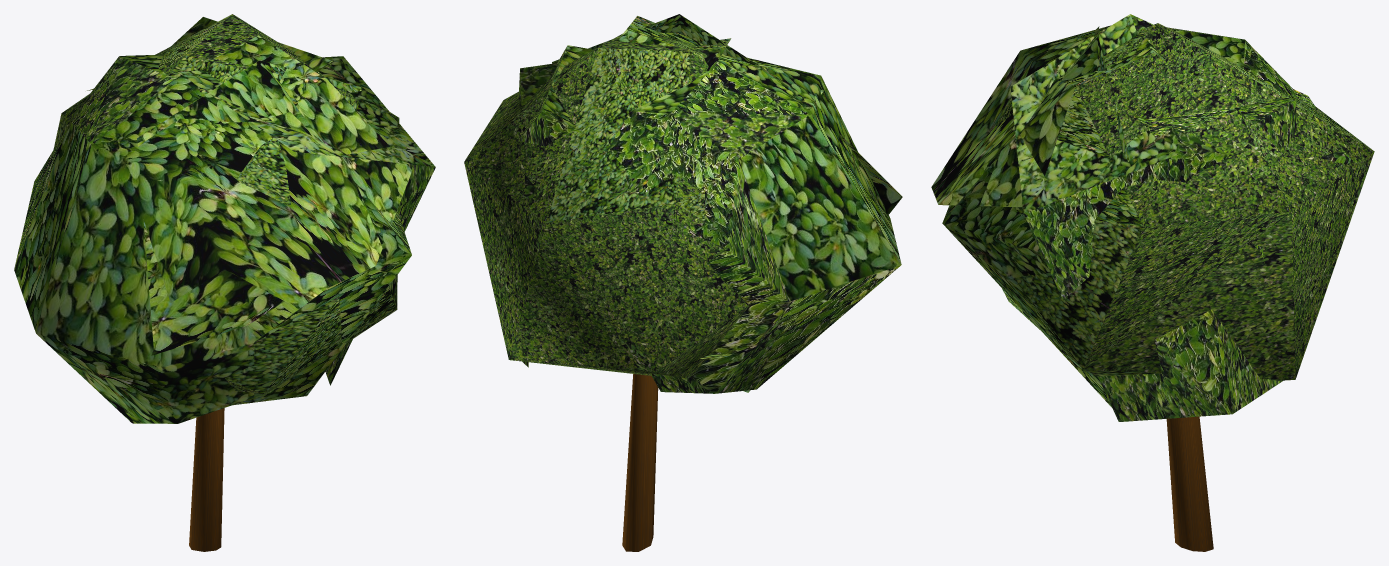
Rendered from Puska.fbx.
3 views of the same model, side by side, from view 1: azimuth 30°, elevation 25°; view 2: azimuth 150°, elevation 25°; view 3: azimuth 270°, elevation 25° (orthographic). The views are drawn at different scales.
Parts seen in each view (by area): view 1: Puska; view 2: Puska; view 3: Puska.
Part boxes in pixels (<box>): Puska: <box>14,14,435,551</box>; Puska: <box>464,14,902,551</box>; Puska: <box>931,14,1374,551</box>.
Size of the model in its own units: 226 by 288 by 226.
Materials: 3 (3 with a texture image).
